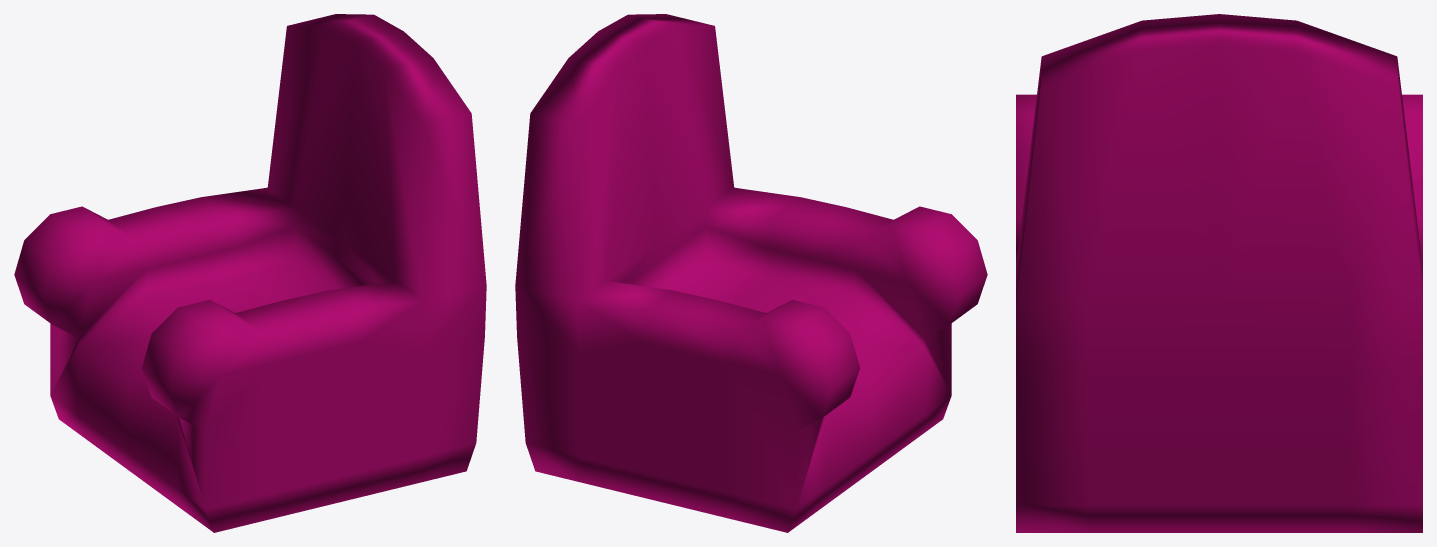
Rendered from armcheir_low.fbx.
3 renders of one model, left to right at view 1: azimuth 30°, elevation 25°; view 2: azimuth 150°, elevation 25°; view 3: azimuth 270°, elevation 25°, orthographic. The views are drawn at different scales.
Visible parts, largest first — view 1: w_low; view 2: w_low; view 3: w_low.
Part boxes in pixels (bbox=[...]): w_low: bbox=[14, 14, 486, 532]; w_low: bbox=[515, 14, 987, 532]; w_low: bbox=[1016, 14, 1422, 532].
Bounding box in the file's own units: 4.54 × 5.19 × 3.85.
